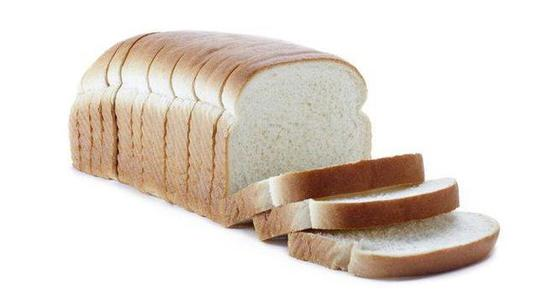white_bread: (66, 39, 354, 218)
